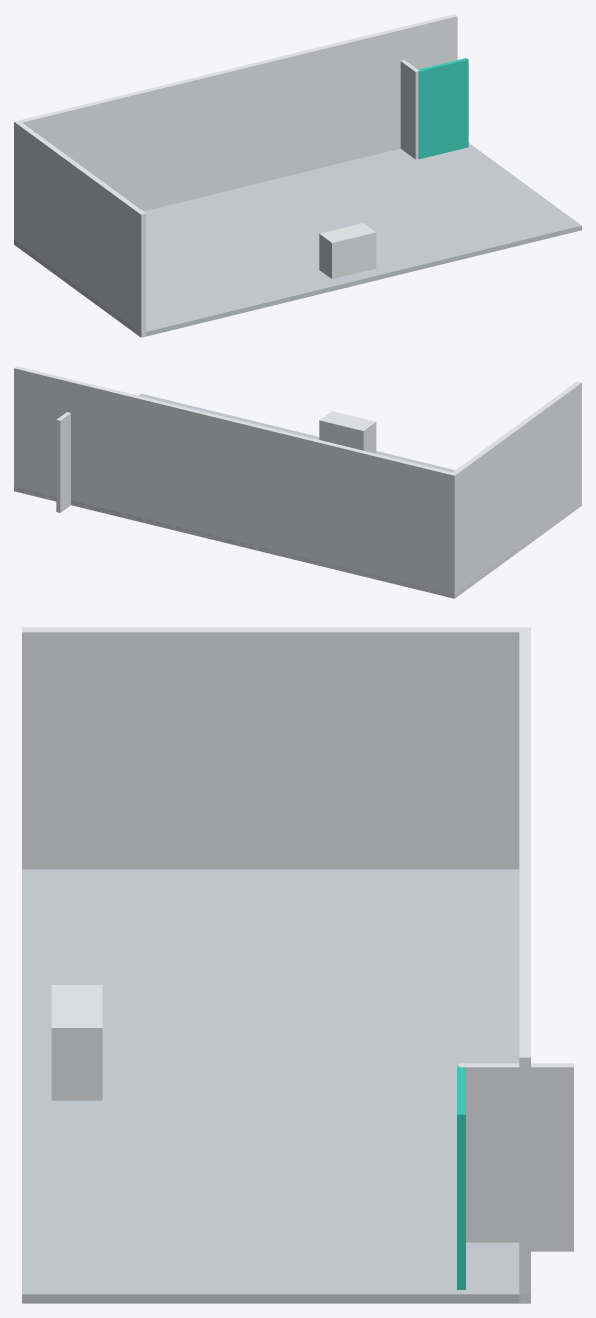
The picture shows the model from 3 angles, top to bottom: view 1: azimuth 30°, elevation 25°; view 2: azimuth 150°, elevation 25°; view 3: azimuth 270°, elevation 25°; orthographic projection. The views are drawn at different scales.
Visible parts, largest first — view 1: Exhibition Booth Concept; view 2: Exhibition Booth Concept; view 3: Exhibition Booth Concept.
Part boxes in pixels (x1=…): Exhibition Booth Concept: x1=14, y1=14, x2=581, y2=337; Exhibition Booth Concept: x1=14, y1=366, x2=581, y2=598; Exhibition Booth Concept: x1=22, y1=627, x2=573, y2=1303.
Size of the model in its own units: 12 by 3.2 by 6.51.
